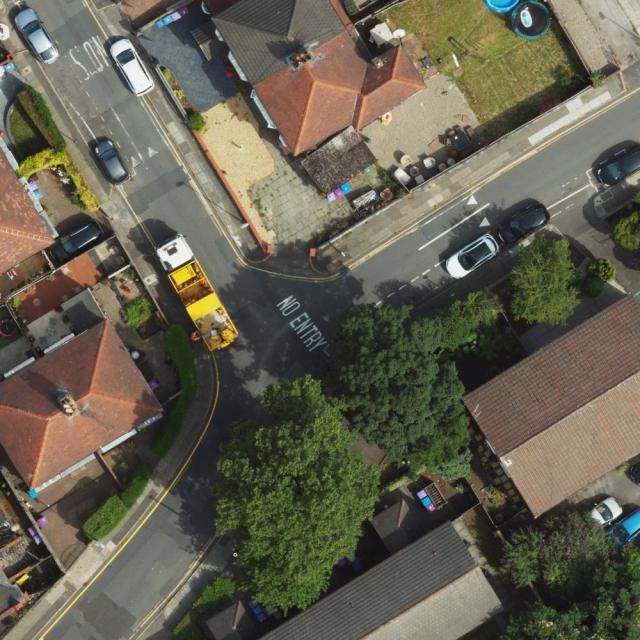roof: (205, 498, 506, 640), (460, 291, 640, 521), (201, 0, 427, 159), (0, 320, 163, 492), (0, 144, 58, 273)
